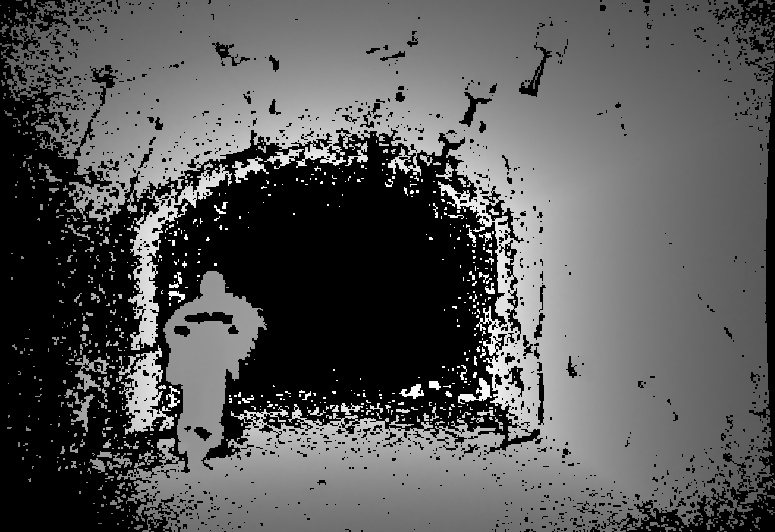person: (163, 269, 266, 471)
